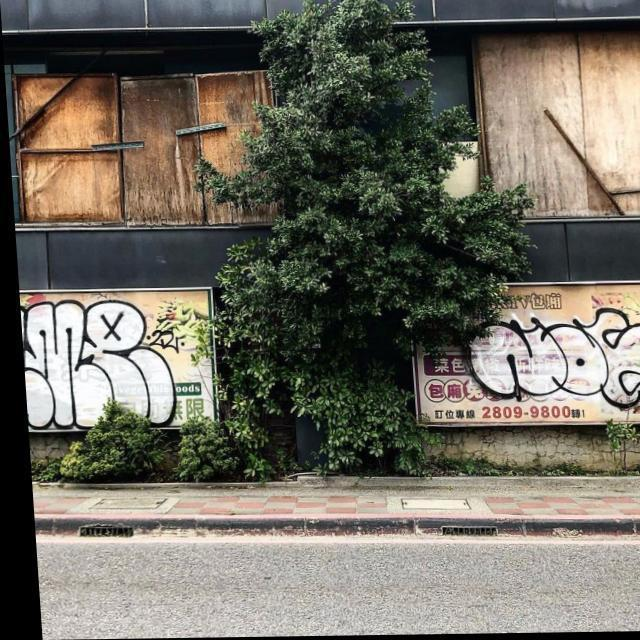nonspitting: (18, 299, 175, 432), (469, 306, 640, 406), (147, 330, 185, 353)
